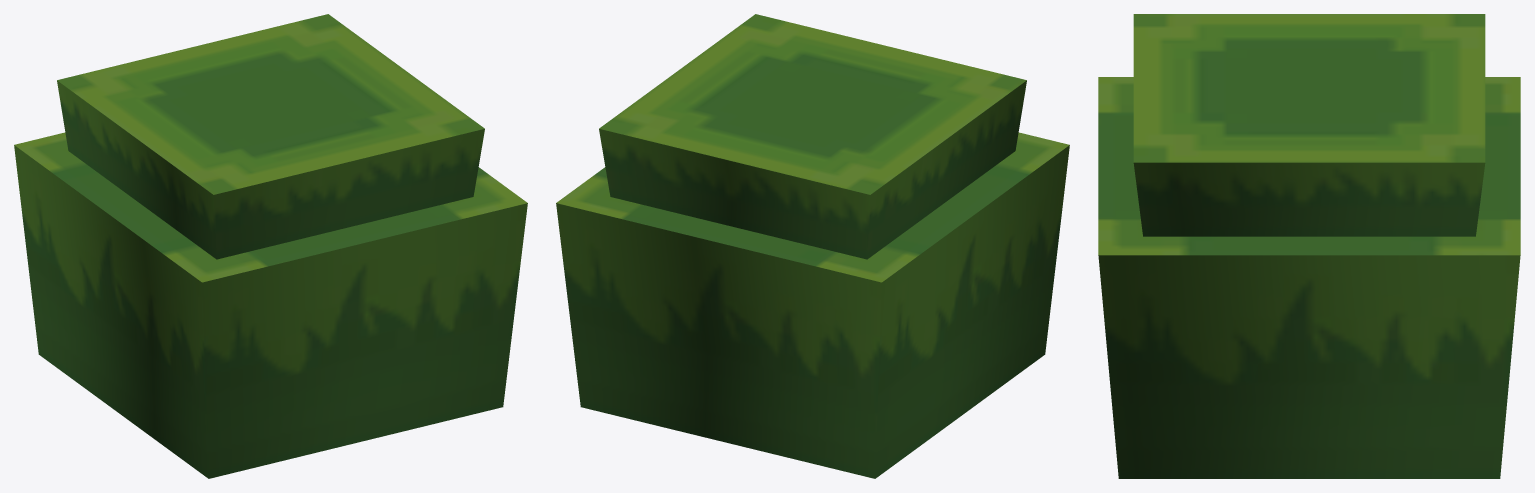
File: grass_01.obj
3 views of the same model, side by side, from view 1: azimuth 30°, elevation 25°; view 2: azimuth 150°, elevation 25°; view 3: azimuth 270°, elevation 25° (orthographic). The views are drawn at different scales.
Parts seen in each view (by area): view 1: grass_01; view 2: grass_01; view 3: grass_01.
Boxes of the visible parts, bbox=[...] form: grass_01: bbox=[14, 14, 527, 478]; grass_01: bbox=[556, 14, 1069, 478]; grass_01: bbox=[1098, 14, 1520, 478].
Size of the model in its own units: 0.96 by 0.7782 by 0.96.
1 material, 1 textured.
